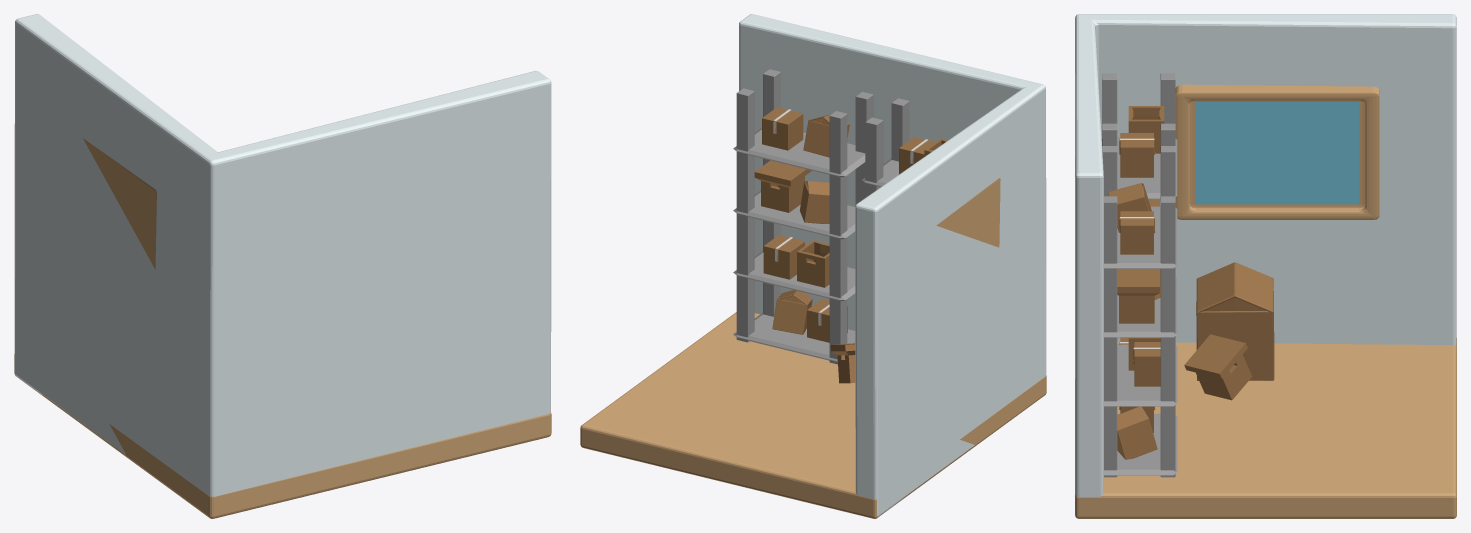
Rendered from Bodega3.fbx.
3 views of the same model, side by side, from view 1: azimuth 30°, elevation 25°; view 2: azimuth 150°, elevation 25°; view 3: azimuth 270°, elevation 25° (orthographic). The views are drawn at different scales.
Parts seen in each view (by area): view 1: Paredes, Piso, Ventana marco; view 2: Paredes, Piso, Plane.003, Plane.002, Ventana marco, Plane.001, Cube.015, Cube.006, Cube.001, Cube.008, Cube.011, Cube.014 (+4 smaller); view 3: Paredes, Piso, Vanetana.001, Ventana marco, Plane.003, Caja 2, Plane.002, Caja 1, Plane.001, Cube.015, Cube.001, Cube.012 (+5 smaller).
Part boxes in pixels (x1,y1,x2,y2): Paredes: (14, 14, 551, 496); Piso: (14, 354, 551, 518); Ventana marco: (83, 138, 156, 269); Paredes: (739, 14, 1046, 516); Piso: (580, 312, 1046, 518); Plane.003: (736, 69, 873, 364); Plane.002: (733, 127, 865, 361); Ventana marco: (936, 178, 1000, 247); Plane.001: (865, 98, 909, 197); Cube.015: (754, 160, 811, 212); Cube.006: (762, 107, 803, 150); Cube.001: (772, 290, 812, 334); Cube.008: (797, 240, 829, 287); Cube.011: (763, 235, 804, 279); Cube.014: (799, 181, 829, 223); Paredes: (1075, 14, 1456, 496); Piso: (1075, 338, 1456, 518); Vanetana.001: (1196, 102, 1359, 204); Ventana marco: (1175, 84, 1379, 219); Plane.003: (1102, 146, 1175, 477); Caja 2: (1196, 262, 1274, 380); Plane.002: (1104, 206, 1177, 475); Caja 1: (1184, 334, 1252, 400); Plane.001: (1102, 73, 1175, 145); Cube.015: (1117, 269, 1159, 323); Cube.001: (1117, 406, 1157, 459); Cube.012: (1119, 133, 1154, 177).
Bounding box in the file's own units: 1002 × 1001 × 1001.
